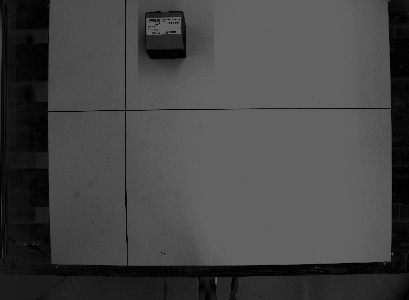b7: (140, 8, 188, 60)
